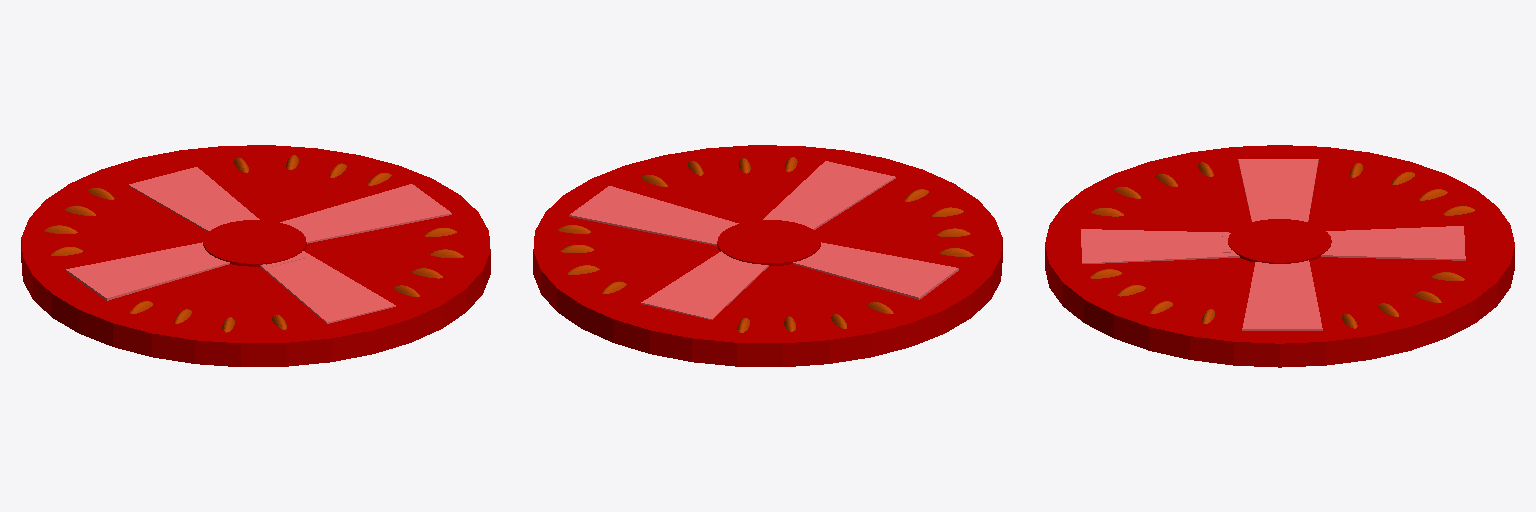
File: Tomato_af.obj
3 views of the same model, side by side, from view 1: azimuth 30°, elevation 25°; view 2: azimuth 150°, elevation 25°; view 3: azimuth 270°, elevation 25° (orthographic).
Visible parts, largest first — view 1: Circle; view 2: Circle; view 3: Circle.
Part boxes in pixels (bbox=[...]): Circle: bbox=[21, 145, 490, 366]; Circle: bbox=[533, 145, 1002, 366]; Circle: bbox=[1045, 145, 1514, 367].
Size of the model in its own units: 2.53 by 0.2074 by 2.53.